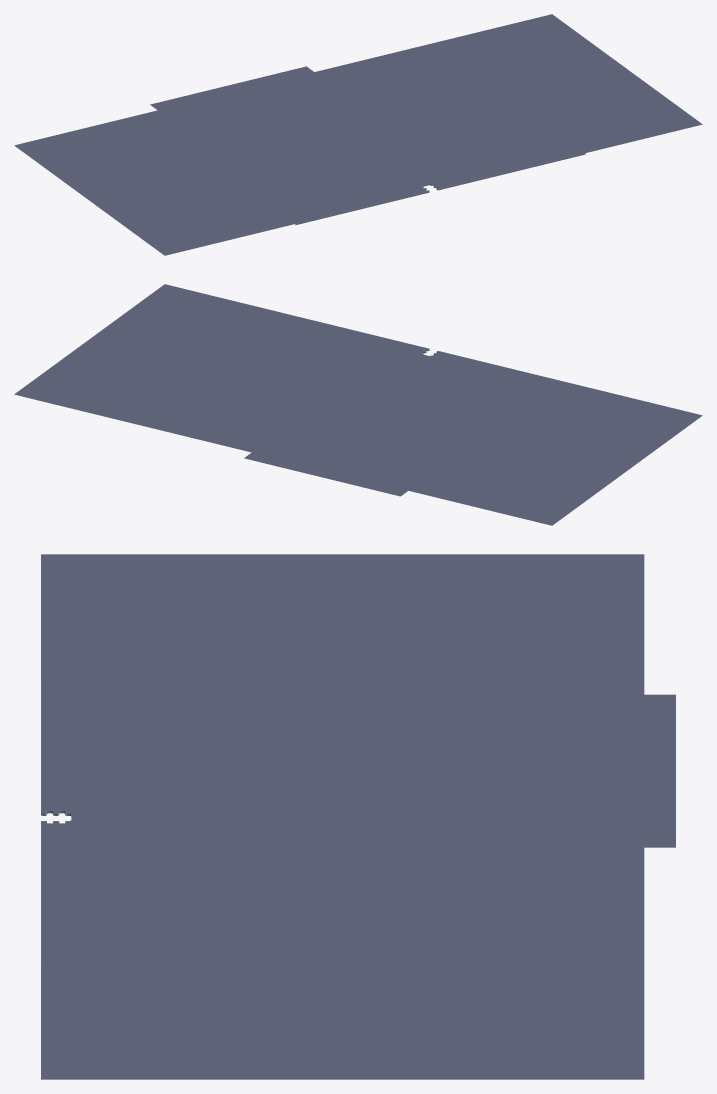
The model's file is WoolGrid.fbx.
3 views of the same model, one above another, from view 1: azimuth 30°, elevation 25°; view 2: azimuth 150°, elevation 25°; view 3: azimuth 270°, elevation 25° (orthographic). The views are drawn at different scales.
Visible parts, largest first — view 1: Middle_4, Middle_5, Middle_2; view 2: Middle_4, Middle_5, Middle_2; view 3: Middle_4, Middle_5, Middle_2.
Part boxes in pixels (box(x1,y1,x2,y2)): Middle_4: box(291, 14, 702, 187); Middle_5: box(14, 82, 425, 255); Middle_2: box(150, 66, 456, 214); Middle_4: box(14, 284, 425, 457); Middle_5: box(335, 352, 702, 525); Middle_2: box(244, 348, 550, 496); Middle_4: box(41, 824, 644, 1079); Middle_5: box(41, 554, 644, 809); Middle_2: box(72, 694, 675, 847).
Bounding box in the file's own units: 56534 × 137 × 28879.
